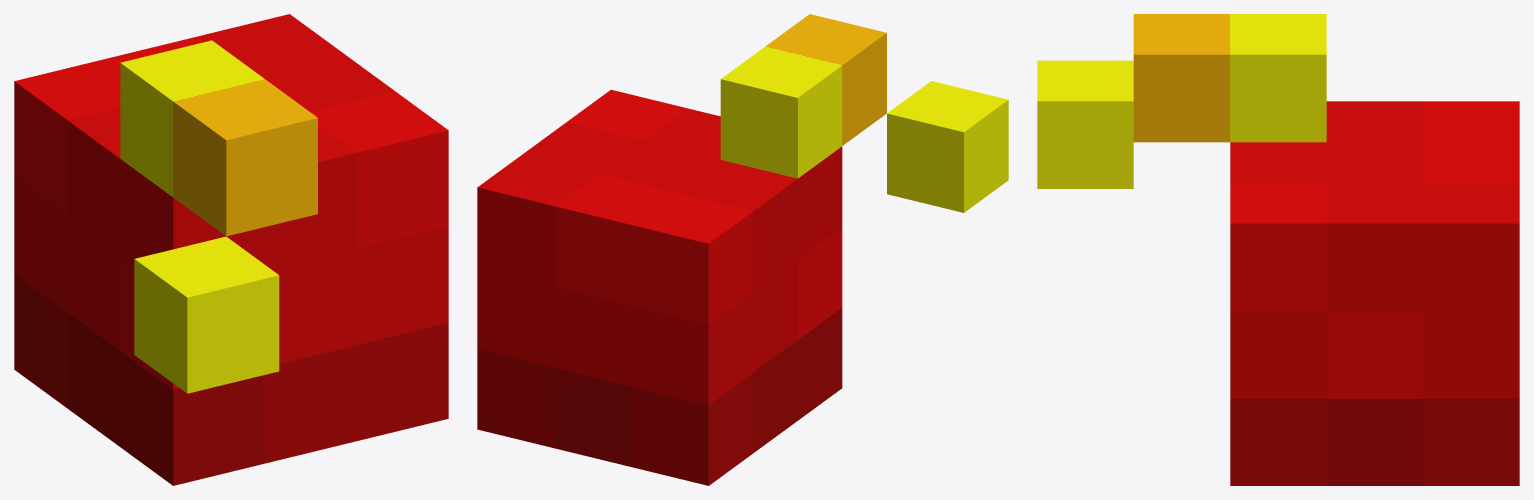
The model's file is fez.gltf.
The picture shows the model from 3 angles, left to right: view 1: azimuth 30°, elevation 25°; view 2: azimuth 150°, elevation 25°; view 3: azimuth 270°, elevation 25°; orthographic projection. The views are drawn at different scales.
Parts seen in each view (by area): view 1: Fez5, Fez3, Fez4, Fez2, Fez1, Fez6; view 2: Fez2, Fez3, Fez4, Fez1, Fez6, Fez5; view 3: Fez2, Fez5, Fez4, Fez, Fez6, Fez1, Fez3.
Part boxes in pixels (x1,y1,x2,y2): Fez5: (265,91,448,463); Fez3: (67,107,264,485); Fez4: (120,40,317,236); Fez2: (14,14,342,407); Fez1: (134,236,279,393); Fez6: (258,53,395,112); Fez2: (477,155,753,485); Fez3: (676,146,842,452); Fez4: (720,14,886,178); Fez1: (887,81,1008,212); Fez6: (522,122,720,192); Fez5: (567,89,720,159); Fez2: (1423,101,1519,485); Fez5: (1230,142,1326,485); Fez4: (1133,14,1326,142); Fez: (1326,311,1423,485); Fez6: (1326,142,1423,310); Fez1: (1037,60,1133,188); Fez3: (1326,101,1423,142).
Bounding box in the file's own units: 0.5 × 0.5 × 0.625.
Materials: 1 (1 with a texture image).
